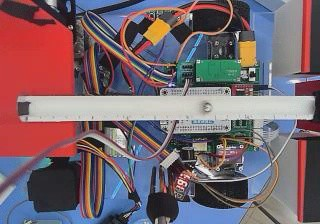ironball: (201, 100, 211, 112)
